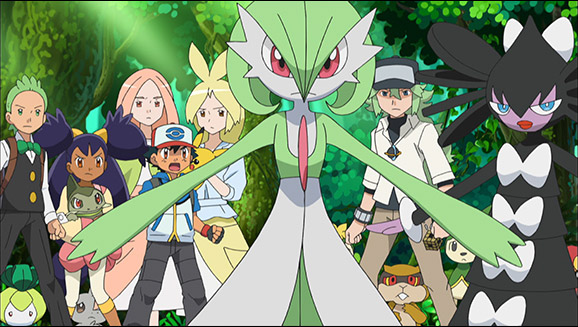gardevoir: (73, 1, 522, 324)
